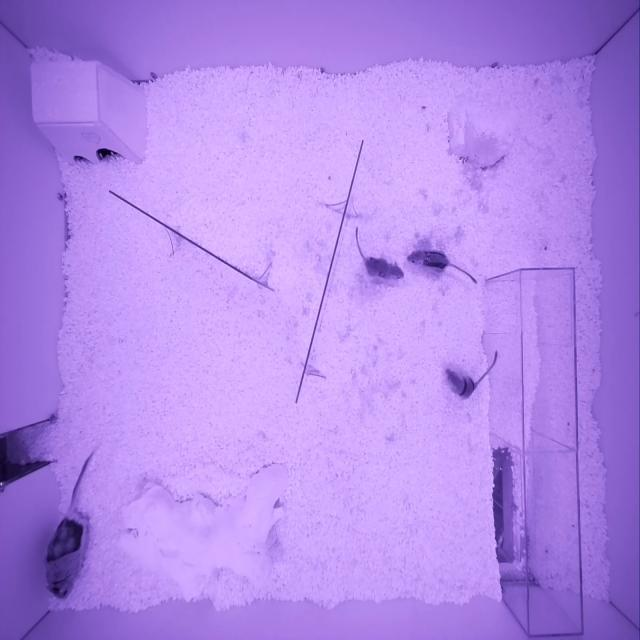adult_back: (45, 511, 86, 601)
pup_h_stripe: (445, 368, 475, 399)
pup_spotted: (365, 256, 405, 280)
pup_v_stripe: (407, 247, 450, 274)
